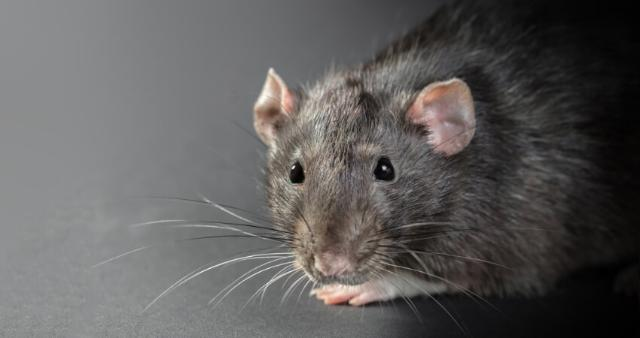rat: (238, 20, 572, 314)
